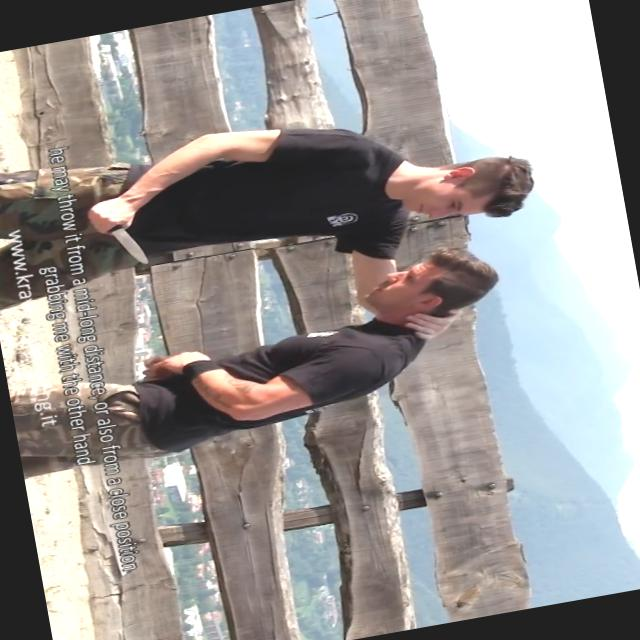knife: (83, 190, 157, 275)
